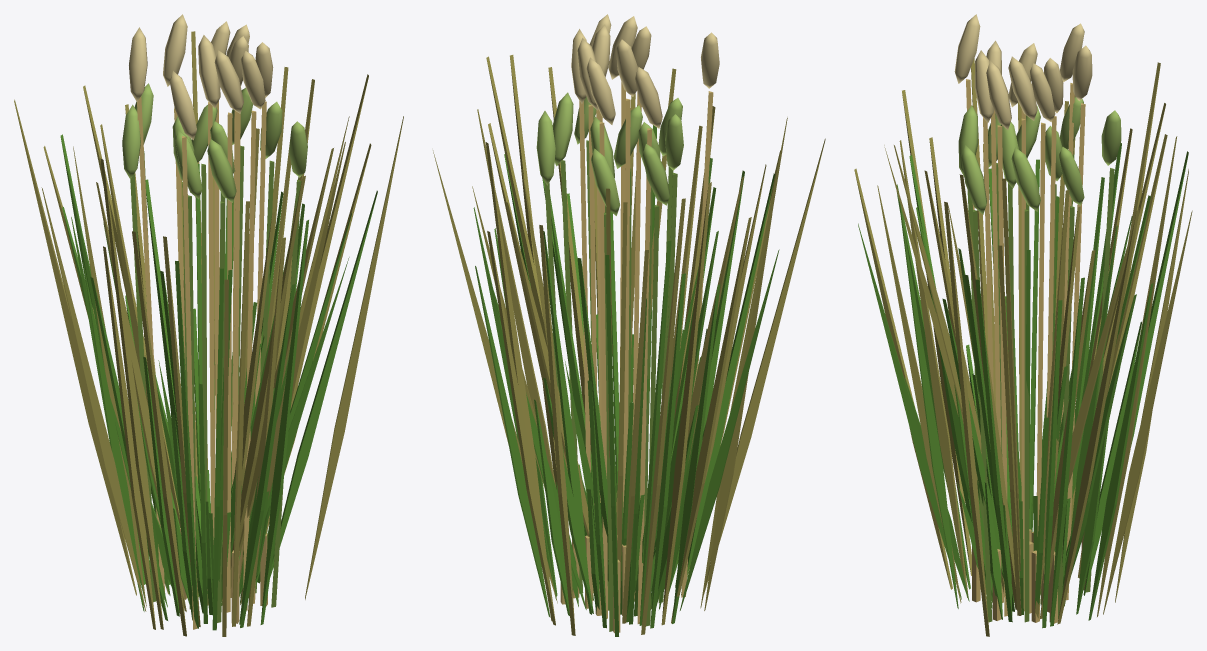
Rendered from Crop_Grain_Oat.fbx.
The picture shows the model from 3 angles, left to right: view 1: azimuth 30°, elevation 25°; view 2: azimuth 150°, elevation 25°; view 3: azimuth 270°, elevation 25°; orthographic projection. The views are drawn at different scales.
Parts seen in each view (by area): view 1: Crop_Grain_Oat__S4, Crop_Grain_Oat__S3, Crop_Grain_Oat__S2, Crop_Grain_Oat__S1, Crop_Grain_Oat__S5; view 2: Crop_Grain_Oat__S4, Crop_Grain_Oat__S3, Crop_Grain_Oat__S2, Crop_Grain_Oat__S5, Crop_Grain_Oat__S1; view 3: Crop_Grain_Oat__S4, Crop_Grain_Oat__S3, Crop_Grain_Oat__S2, Crop_Grain_Oat__S5, Crop_Grain_Oat__S1.
Part boxes in pixels (x1=…): Crop_Grain_Oat__S4: x1=14, y1=14, x2=403, y2=636; Crop_Grain_Oat__S3: x1=60, y1=83, x2=377, y2=630; Crop_Grain_Oat__S2: x1=110, y1=295, x2=288, y2=624; Crop_Grain_Oat__S1: x1=151, y1=470, x2=270, y2=613; Crop_Grain_Oat__S5: x1=152, y1=451, x2=275, y2=623; Crop_Grain_Oat__S4: x1=433, y1=14, x2=825, y2=635; Crop_Grain_Oat__S3: x1=473, y1=92, x2=779, y2=636; Crop_Grain_Oat__S2: x1=534, y1=314, x2=707, y2=628; Crop_Grain_Oat__S5: x1=556, y1=482, x2=656, y2=633; Crop_Grain_Oat__S1: x1=578, y1=464, x2=655, y2=616; Crop_Grain_Oat__S4: x1=854, y1=14, x2=1192, y2=636; Crop_Grain_Oat__S3: x1=858, y1=97, x2=1188, y2=628; Crop_Grain_Oat__S2: x1=905, y1=296, x2=1141, y2=614; Crop_Grain_Oat__S5: x1=957, y1=479, x2=1086, y2=623; Crop_Grain_Oat__S1: x1=981, y1=484, x2=1056, y2=616.
Size of the model in its own units: 0.2008 by 0.3611 by 0.1989.
